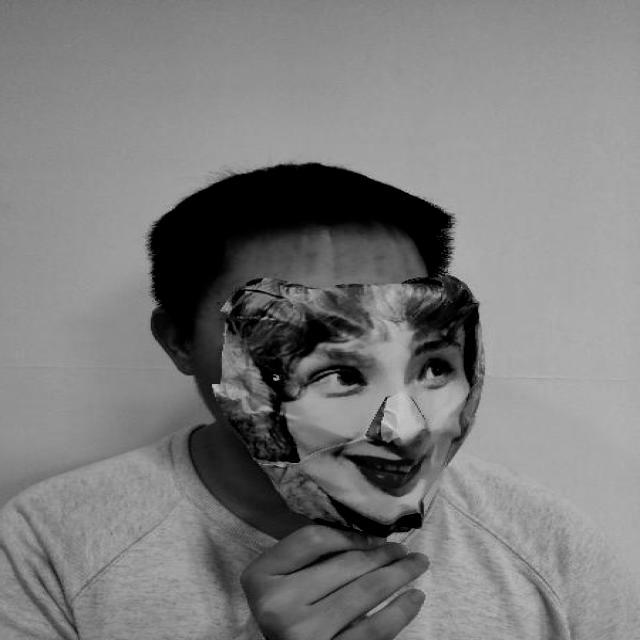fake: (282, 296, 470, 518)
